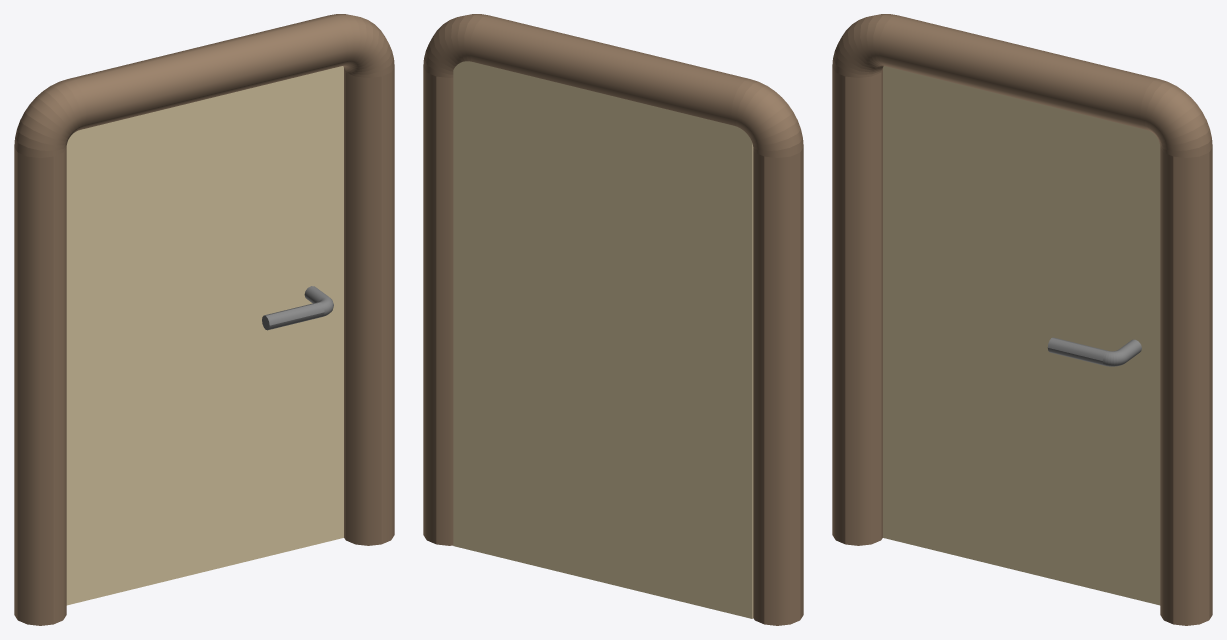
File: pintu.fbx
3 renders of one model, left to right at view 1: azimuth 30°, elevation 25°; view 2: azimuth 150°, elevation 25°; view 3: azimuth 330°, elevation 25°, orthographic.
Visible parts, largest first — view 1: Cube.007, Cylinder.006, Cylinder.027; view 2: Cube.007, Cylinder.006; view 3: Cube.007, Cylinder.006, Cylinder.027.
Part boxes in pixels (x1,y1,x2,y2): Cube.007: (66, 66, 343, 605); Cylinder.006: (14, 14, 394, 625); Cylinder.027: (262, 286, 333, 330); Cube.007: (453, 61, 753, 618); Cylinder.006: (423, 14, 803, 625); Cube.007: (883, 66, 1160, 605); Cylinder.006: (832, 14, 1212, 625); Cylinder.027: (1047, 337, 1141, 366).
Size of the model in its own units: 801 by 1078 by 123.
